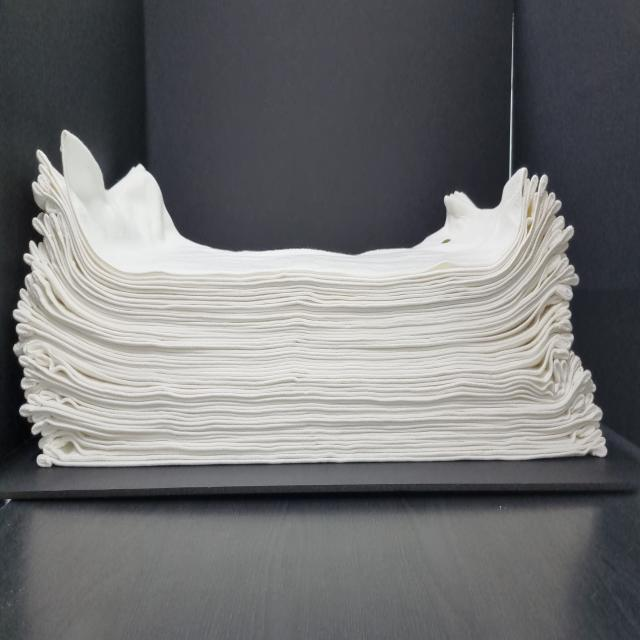50_towel_counts: (0, 112, 640, 476)
